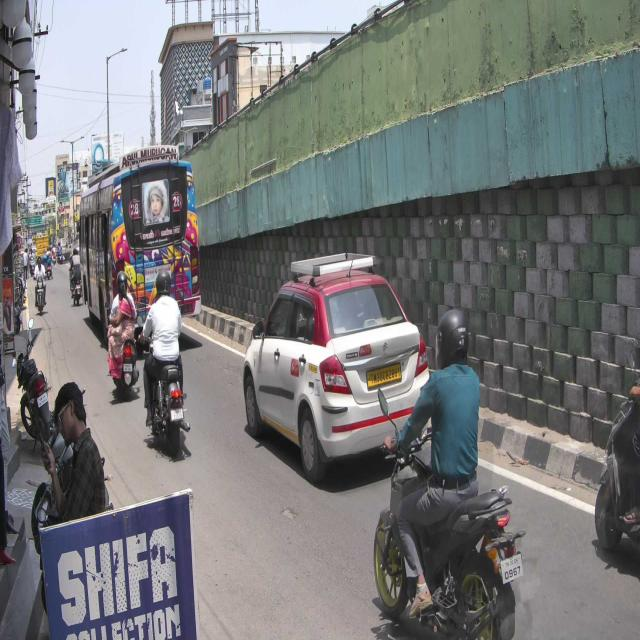single_rider: (372, 307, 527, 640), (138, 271, 192, 456)
